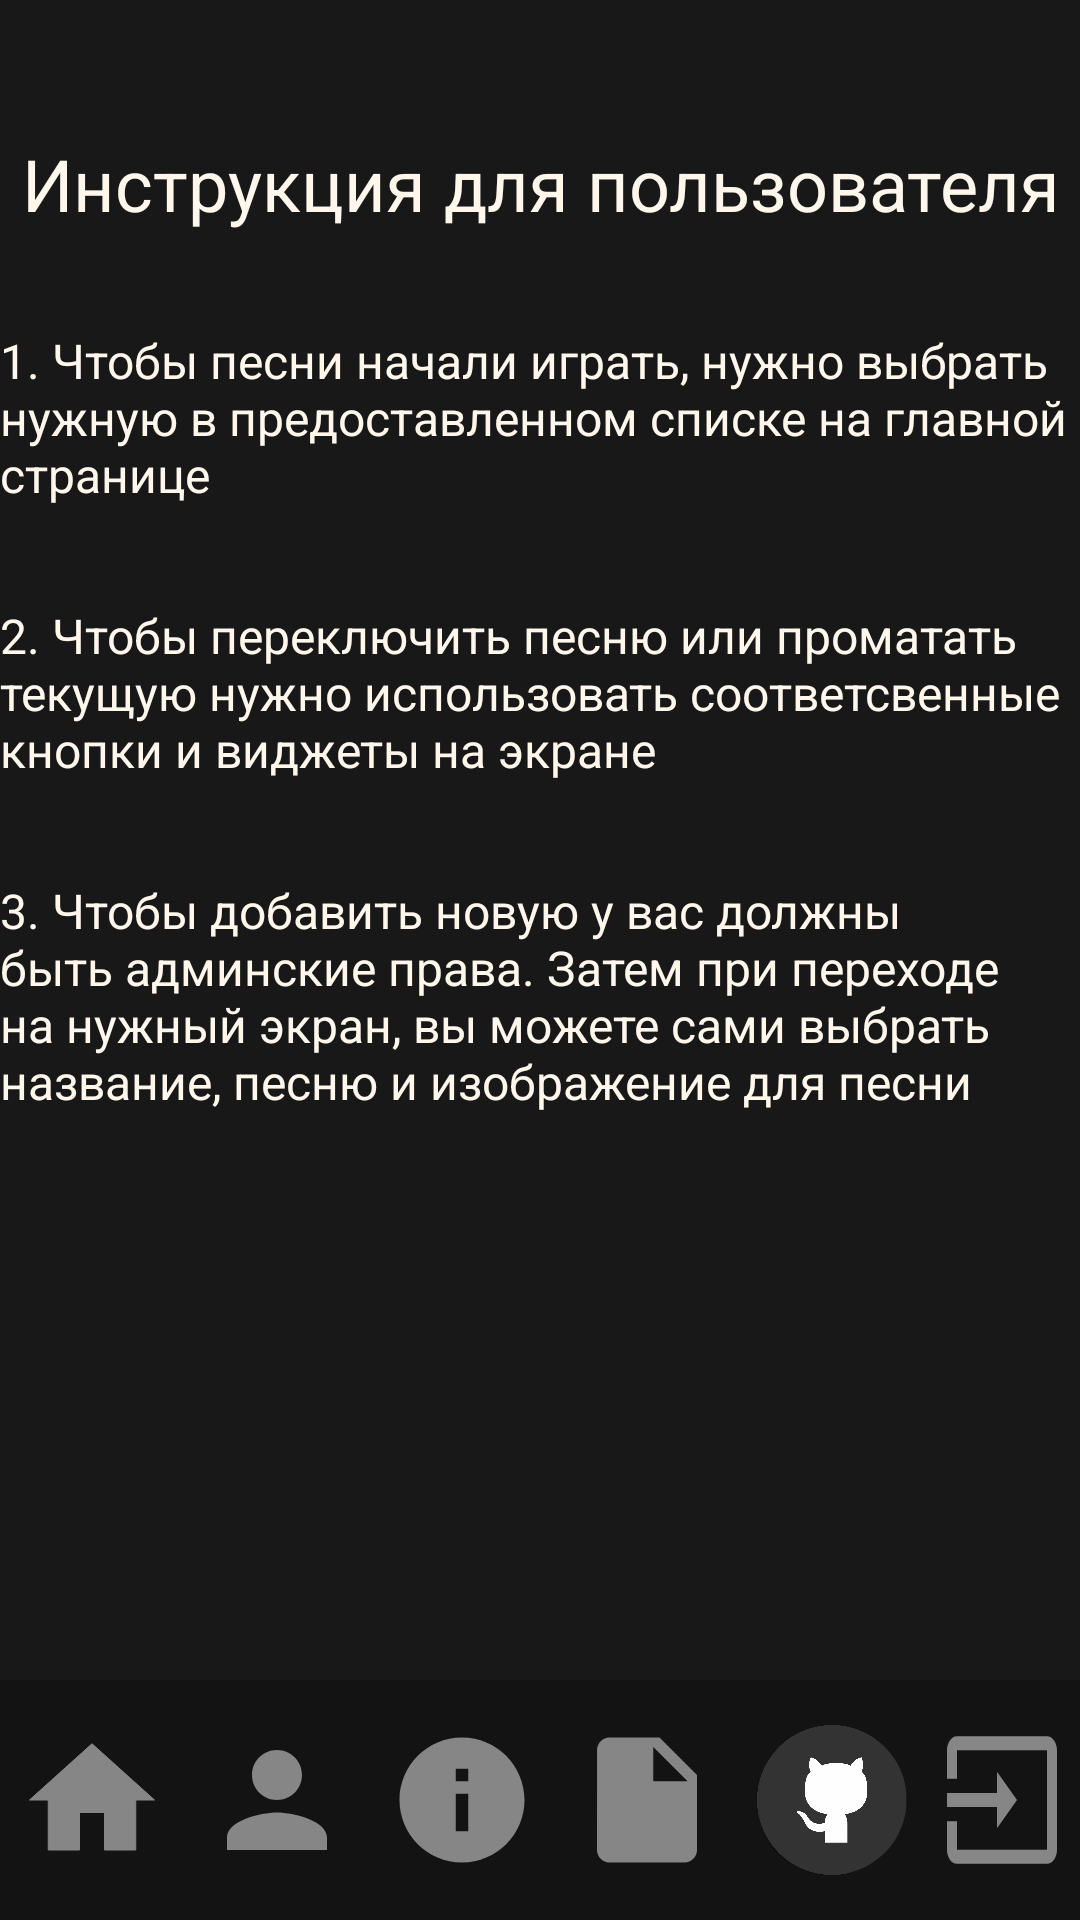

Point at icon controls on the screen. Image size 1080w x 1920h, points as (x=x, y=y).
about prog: (x=462, y=1800)
exit: (x=1002, y=1800)
instruction: (x=647, y=1800)
user: (x=277, y=1800)
